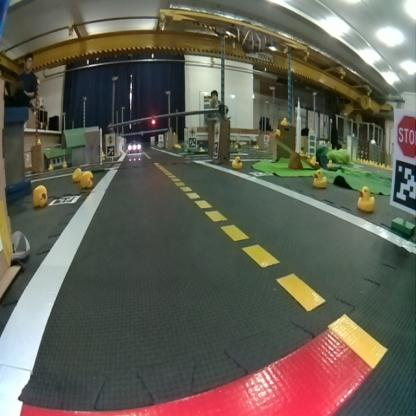Duckie: (357, 184, 375, 212), (32, 184, 46, 206), (312, 170, 328, 186), (79, 170, 93, 184), (232, 155, 242, 168)
QR code: (390, 165, 414, 207), (49, 194, 78, 206)
Stop sign: (395, 114, 415, 156)
Traffic light: (150, 114, 155, 124)
